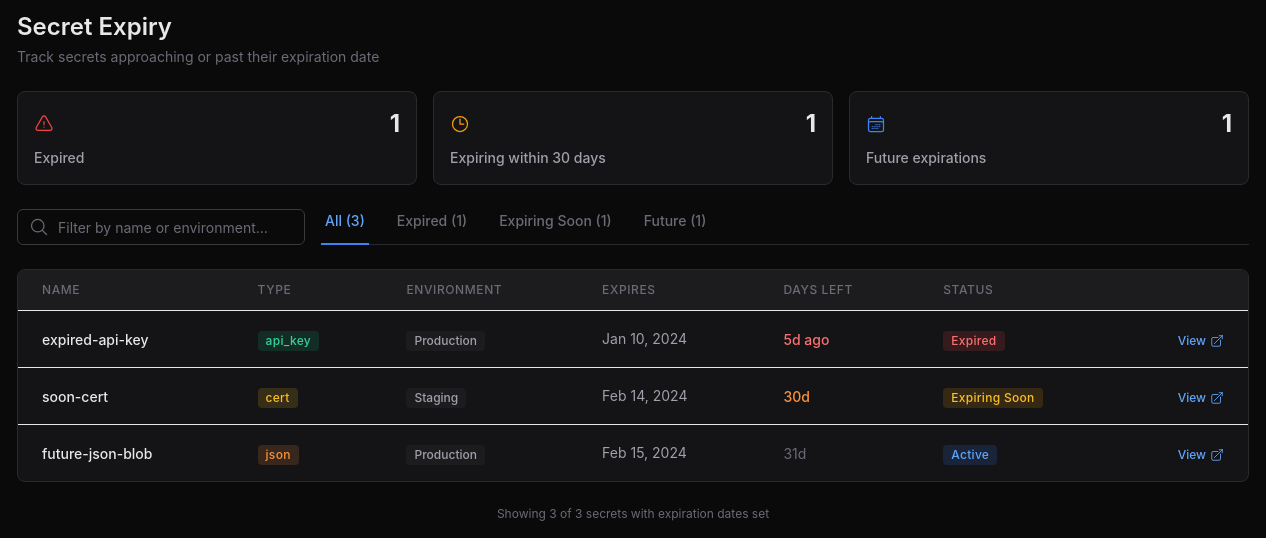
Test: SecretExpiryPage › filters the table when the Expired tab is selected
Check: the text "expired-api-key" is shown, box [42,331,148,348]
Check: the text "future-json-blob" is shown, box [42,445,152,462]
Step 1. Click the button "Expired (1)" → (432, 228), box [393,211,471,245]
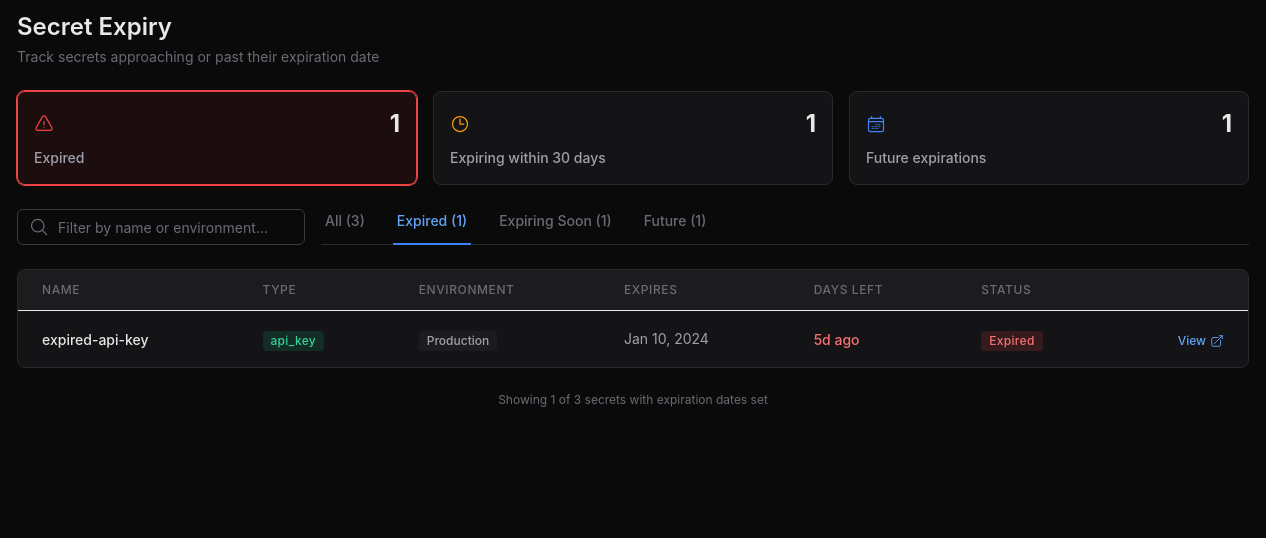
Check: the text "expired-api-key" is shown, box [42,331,148,348]
Check: the text "soon-cert" is gone
Check: the text "future-json-blob" is gone
